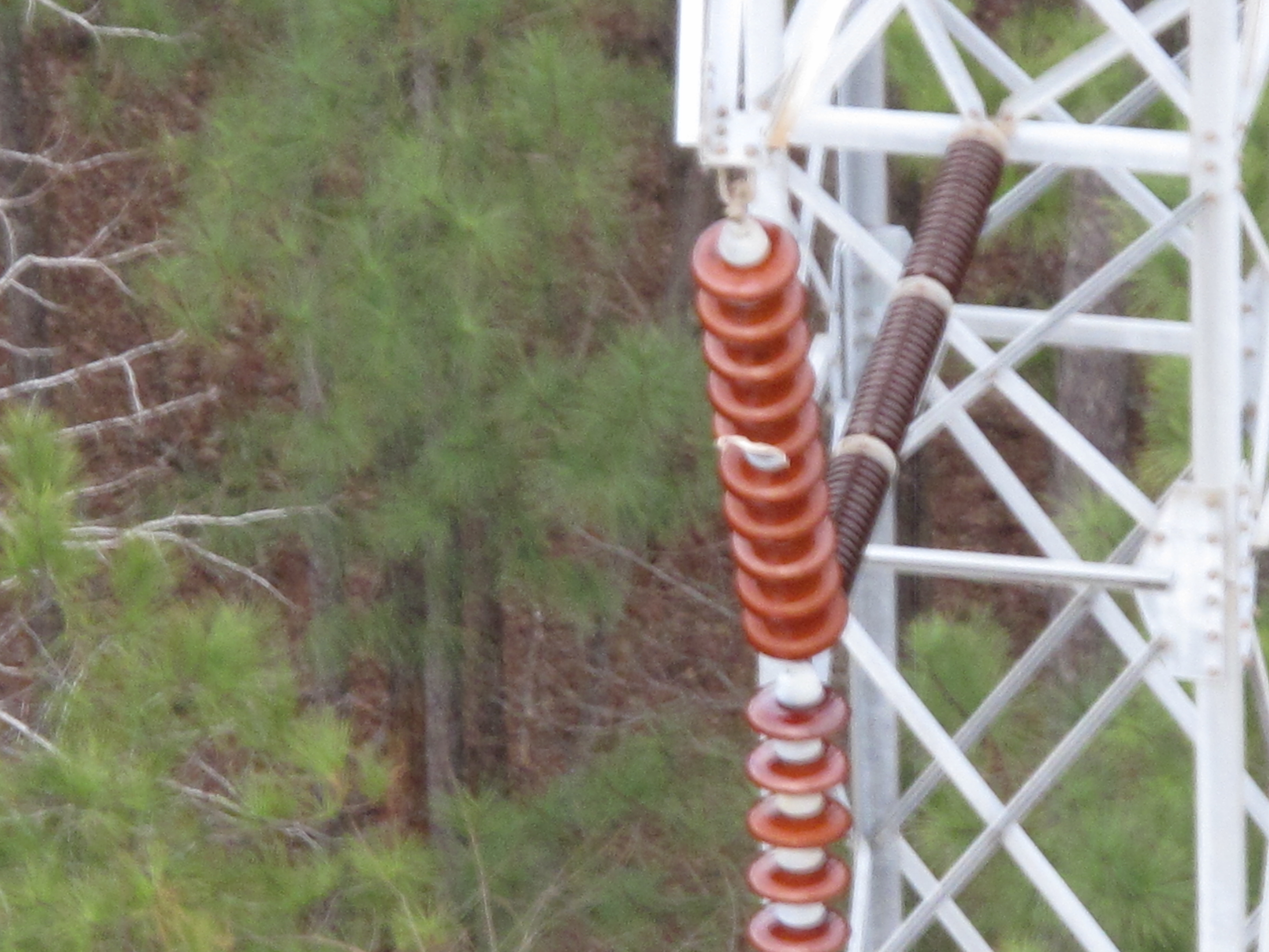damaged: (713, 427, 794, 471)
insulator: (814, 139, 1002, 596), (688, 212, 858, 659), (746, 694, 853, 952)
